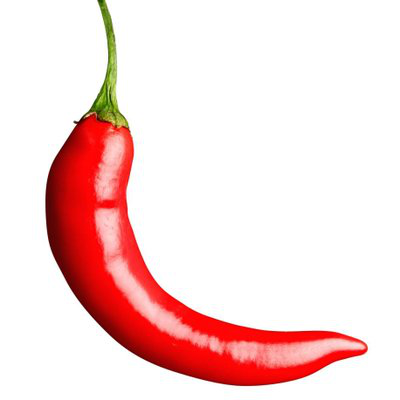Cabai: (5, 1, 314, 390)
